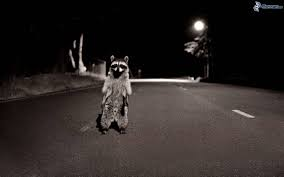raccoon: (100, 54, 133, 135)
